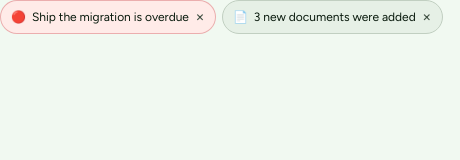
it: SuggestionsBar › remembers a dismissal, since the server stores none
What coordinates should you click on to do the following:
click the 1st button "×"
I would click on:
 (200, 17)
Its box is x1=195 y1=5 x2=205 y2=29.
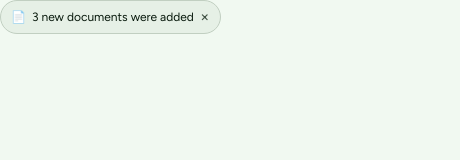
Check: the button "3 new documents were added" is shown, box x1=32 y1=9 x2=194 y2=25
Check: the button "Ship the migration is overdue" is gone
